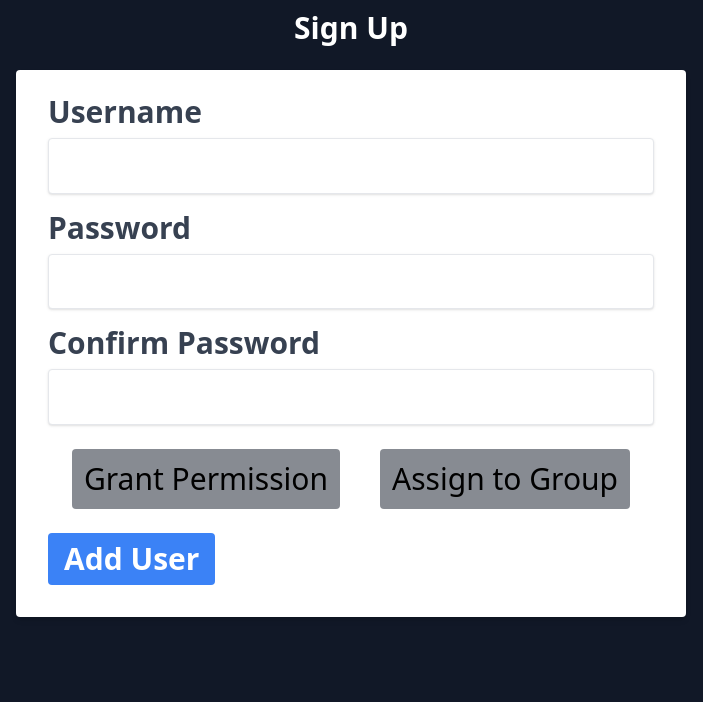
Test: AddUser Component Suite › renders group selection when Assign to Group button is clicked
The image size is (703, 702).
Click the button "Assign to Group" at (505, 478), box [380,448,630,508]
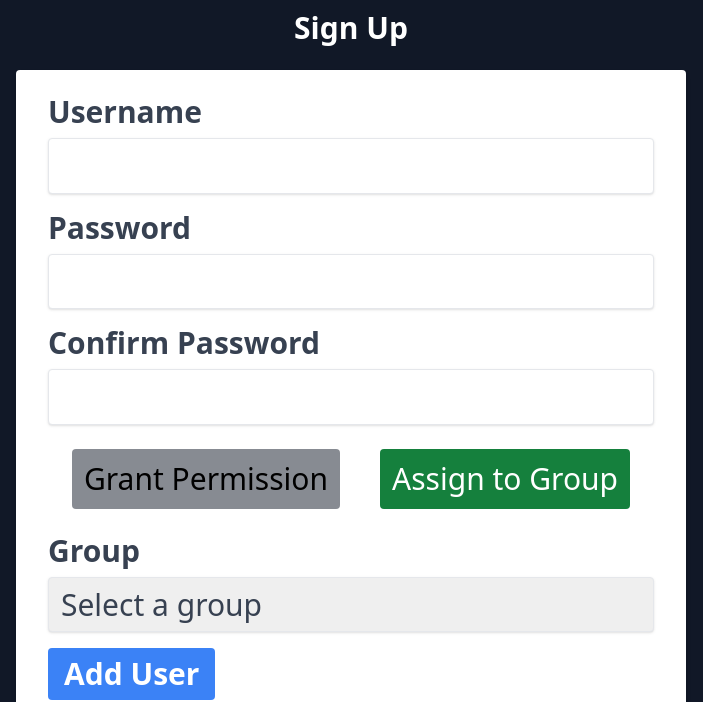
Check: the dropdown labelled "Group" is shown, box [48,576,654,632]
